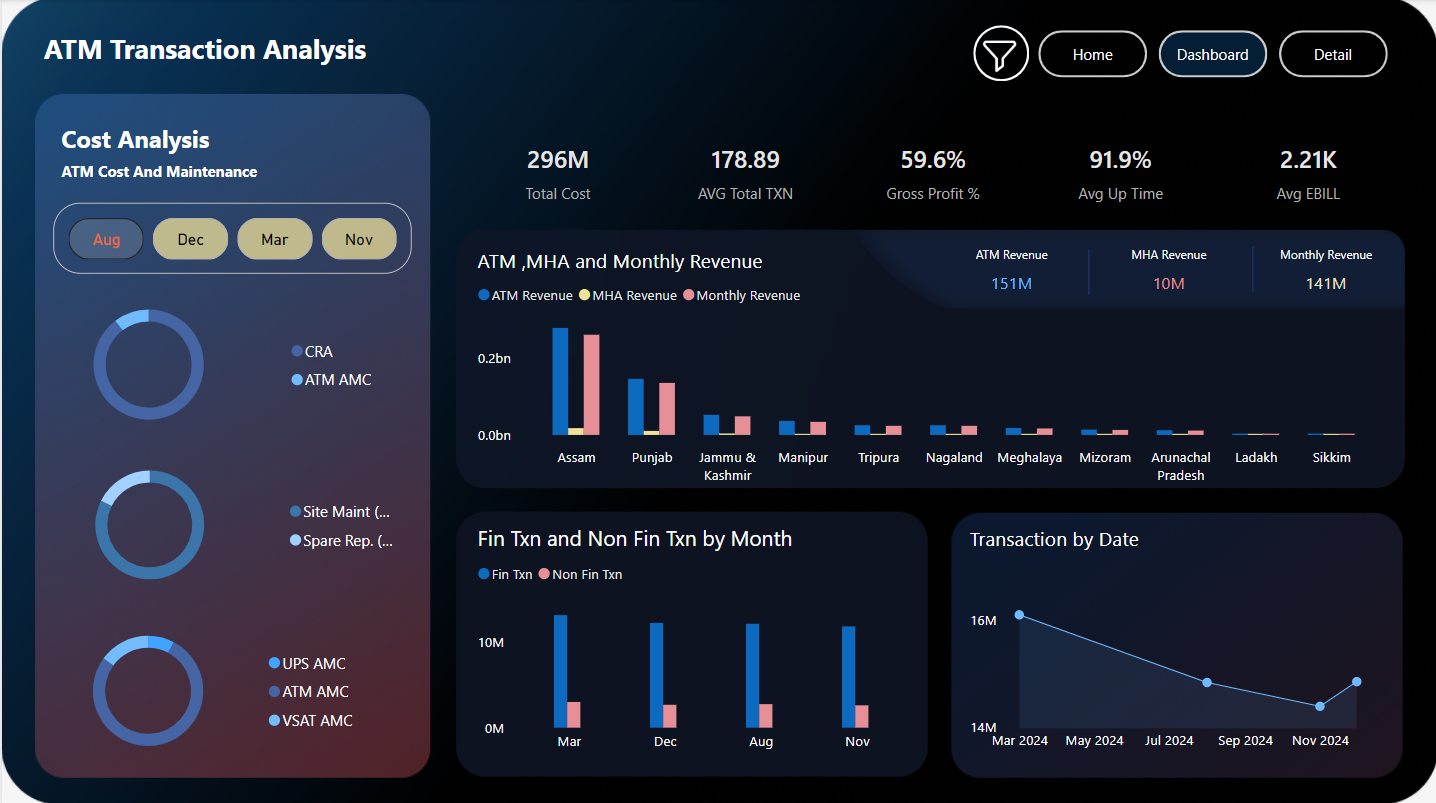

This screenshot's page, from the dashboard's own definition file:
{"tool":"powerbi","page":{"name":"Dashboard","canvas":[1280,720],"ordinal":1},"visuals":[{"type":"stackedAreaChart","fields":{"Category":["Data Source.Date"],"Y":["Sum(Data Source.Monthly Txn)"]},"box":[857.4,469,380.5,210],"z":0},{"type":"clusteredColumnChart","fields":{"Y":["Sum(Data Source.Fin Txn)","Sum(Data Source.Non Fin Txn)"],"Category":["Data Source.MOnth-Short"]},"box":[418.4,467.4,396.3,211.6],"z":1000},{"type":"clusteredColumnChart","title":"ATM ,MHA and Monthly Revenue","fields":{"Category":["Data Source.STATE"],"Y":["Sum(Data Source.ATM Rev Total)","Sum(Data Source.MHA Revenue)","Sum(Data Source.Monthly Rev)"]},"box":[418.4,221.1,819.5,217.9],"z":2000},{"type":"donutChart","fields":{"Y":["Sum(Data Source.CRA)","Sum(Data Source.ATM AMC)"]},"box":[0,259.3,343.6,132.8],"z":3000},{"type":"donutChart","fields":{"Y":["Sum(Data Source.Site Maint (Non Asset))","Sum(Data Source.Spare Rep. (SLM) (AssetOEM))"]},"box":[3.1,403,363.9,131.2],"z":4000},{"type":"donutChart","fields":{"Y":["Sum(Data Source.UPS AMC)","Sum(Data Source.ATM AMC)","Sum(Data Source.VSAT AMC)"]},"box":[18.7,549.8,307.7,132.8],"z":5000},{"type":"cardVisual","fields":{"Data":["Sum(Data Source. Total Cost  )","Avg(Data Source.AVG Total TXN)","Data Source.Gross Profit Percentage","Avg(Data Source.Up Time)","Avg(Data Source. EBILL )"]},"box":[410.8,104.6,841.8,90.6],"z":6000},{"type":"advancedSlicerVisual","fields":{"Values":["Data Source.MOnth-Short"]},"box":[45.8,181.6,319,63.2],"z":8000},{"type":"cardVisual","title":"ATM ,MHA Monthly Revenue","fields":{"Data":["Sum(Data Source.ATM Rev Total)","Sum(Data Source.MHA Revenue)","Sum(Data Source.Monthly Rev)"]},"box":[827.8,204,423.3,70.3],"z":9000},{"type":"textbox","box":[32.5,23.9,343.3,56.4],"z":10000},{"type":"pageNavigator","box":[922.4,27.3,312.6,42.7],"z":11000},{"type":"image","box":[865.7,28.1,45.3,45.3],"z":12000},{"type":"shape","box":[864.8,23.5,50,50],"z":13000},{"type":"textbox","box":[47.4,104.2,213.2,75.8],"z":15000}]}

Visuals, with their boxes in screenshot pixels (x1, y1, x2, y2), scaled from the page's 1280x720 canvas onto the 1436x803 screenshot:
stackedAreaChart - Data Source.Date x Sum(Data Source.Monthly Txn): <bbox>962, 523, 1389, 757</bbox>
clusteredColumnChart - Sum(Data Source.Fin Txn) x Sum(Data Source.Non Fin Txn): <bbox>469, 521, 914, 757</bbox>
"ATM ,MHA and Monthly Revenue" clusteredColumnChart: <bbox>469, 247, 1389, 490</bbox>
donutChart - Sum(Data Source.CRA) x Sum(Data Source.ATM AMC): <bbox>0, 289, 385, 437</bbox>
donutChart - Sum(Data Source.Site Maint (Non Asset)) x Sum(Data Source.Spare Rep. (SLM) (AssetOEM)): <bbox>3, 449, 412, 596</bbox>
donutChart - Sum(Data Source.UPS AMC) x Sum(Data Source.ATM AMC): <bbox>21, 613, 366, 761</bbox>
cardVisual - Sum(Data Source. Total Cost  ) x Avg(Data Source.AVG Total TXN): <bbox>461, 117, 1405, 218</bbox>
advancedSlicerVisual - Data Source.MOnth-Short: <bbox>51, 203, 409, 273</bbox>
"ATM ,MHA Monthly Revenue" cardVisual: <bbox>929, 228, 1404, 306</bbox>
textbox: <bbox>36, 27, 422, 90</bbox>
pageNavigator: <bbox>1035, 30, 1386, 78</bbox>
image: <bbox>971, 31, 1022, 82</bbox>
shape: <bbox>970, 26, 1026, 82</bbox>
textbox: <bbox>53, 116, 292, 201</bbox>
